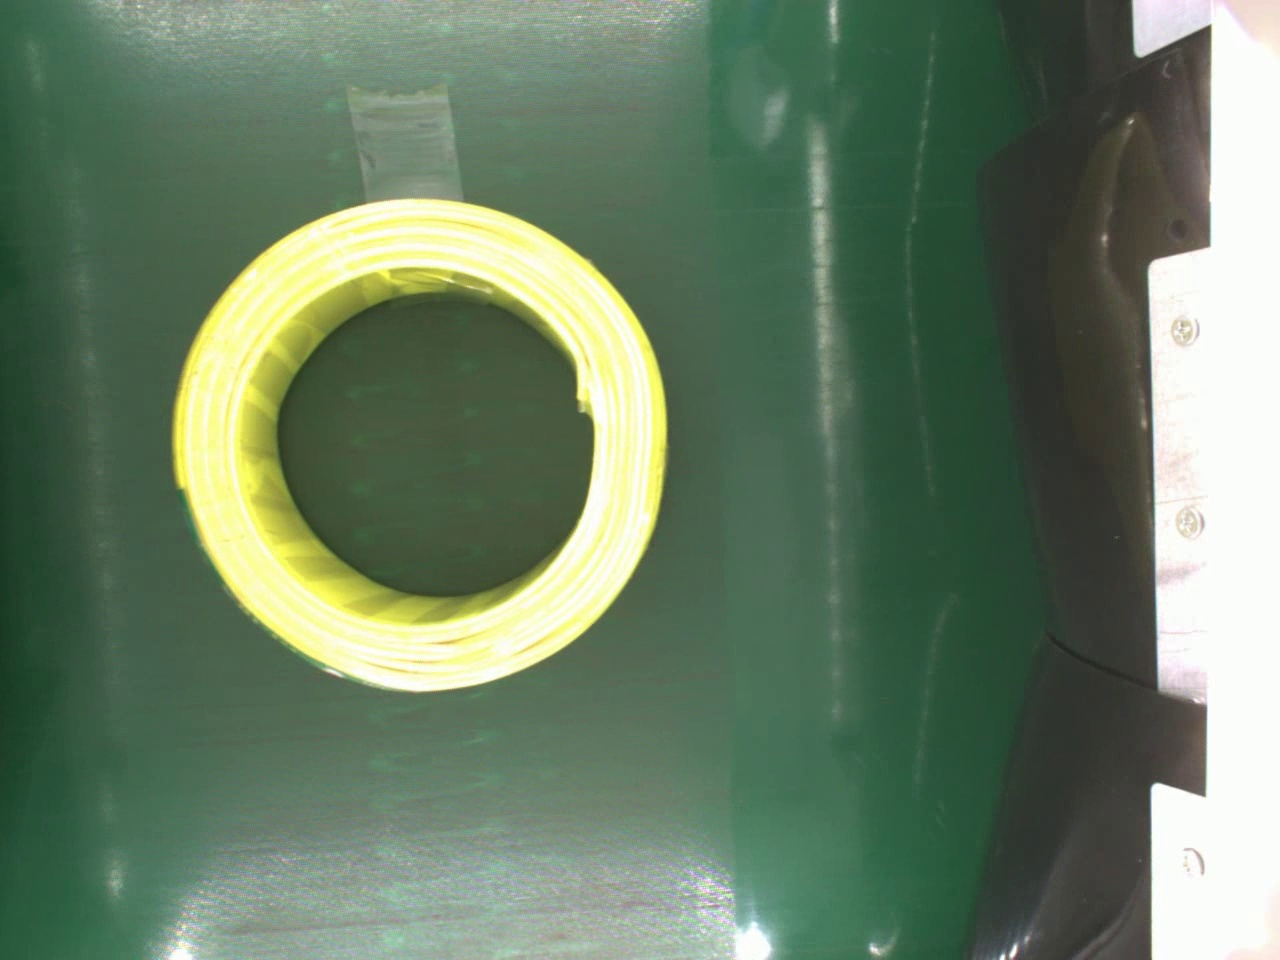yellow: (174, 191, 671, 697)
